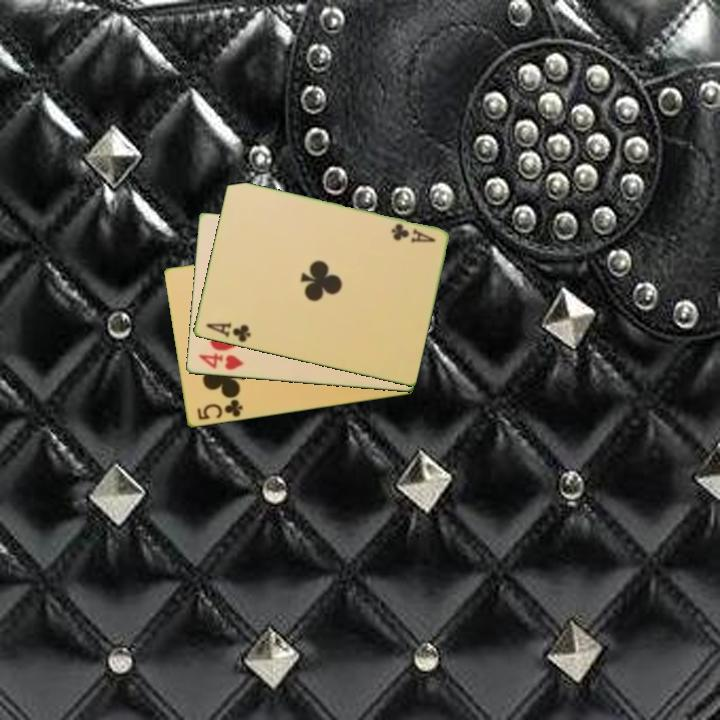4h: (195, 350, 246, 373)
5c: (193, 396, 245, 423)
Ac: (202, 318, 254, 345), (388, 220, 438, 246)
